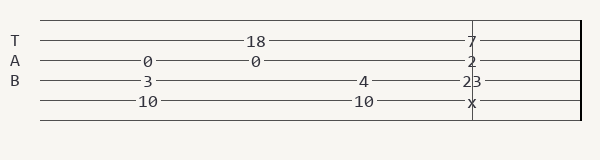0: (143, 53, 157, 68), (251, 53, 265, 68)
10: (138, 93, 162, 108), (354, 93, 378, 108)
18: (246, 33, 270, 48)
2: (467, 53, 481, 68)
23: (462, 73, 486, 88)
3: (143, 73, 157, 88)
4: (359, 73, 373, 88)
7: (467, 33, 481, 48)
x: (467, 94, 481, 107)
